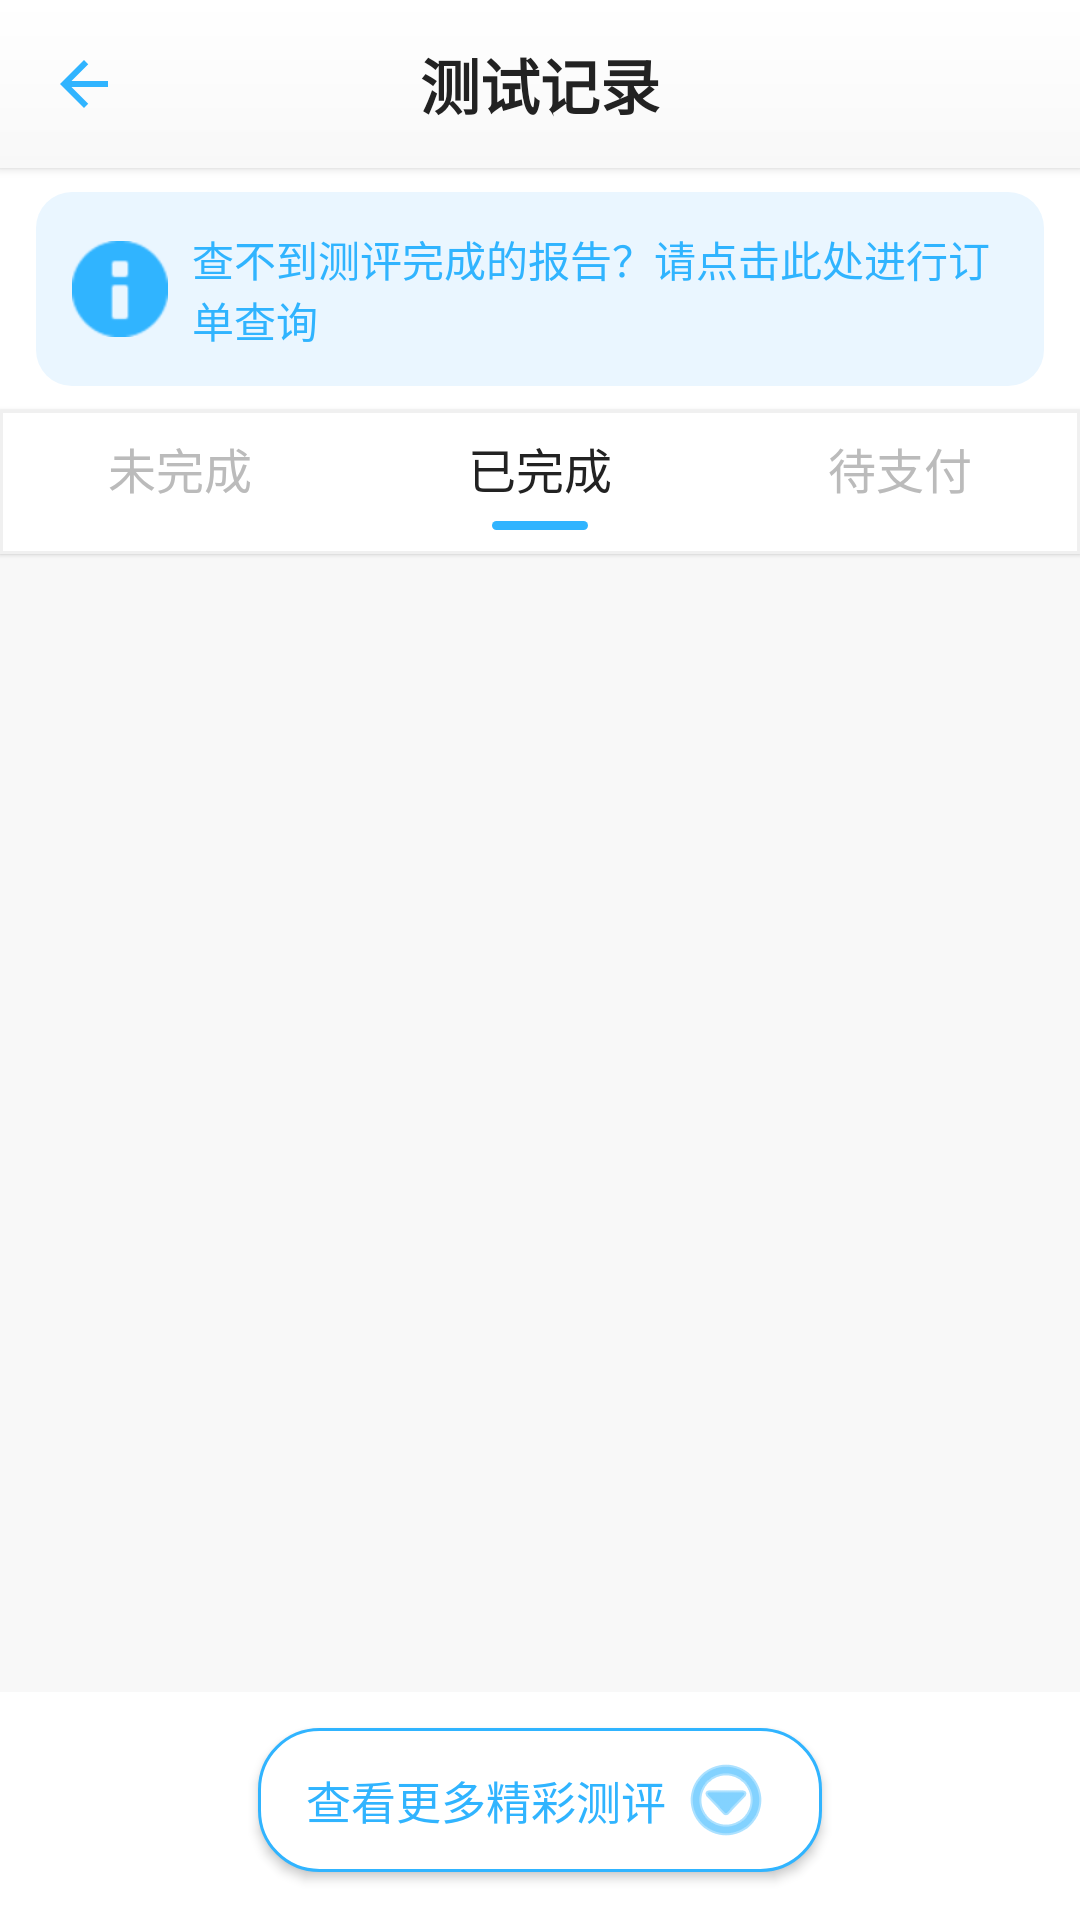

Screen size 1080×1920. Icon name, then its box in pixels as (x1, y1, x2, y2):
返回: (60, 60, 108, 108)
